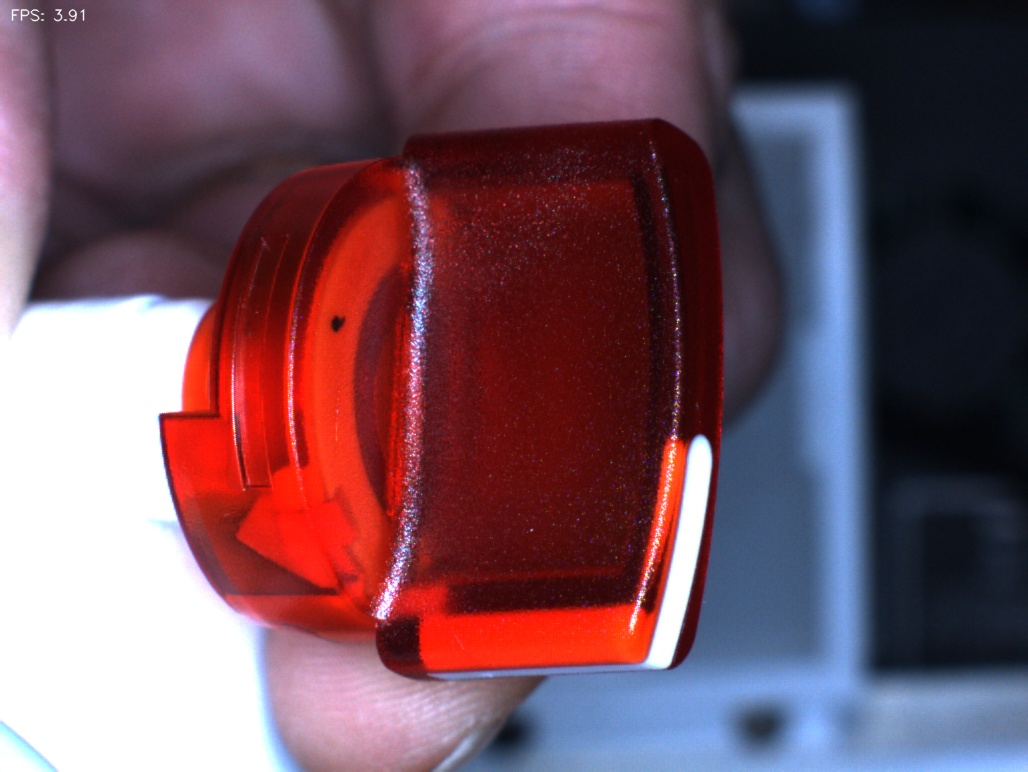PointNoir: (302, 284, 375, 367)
